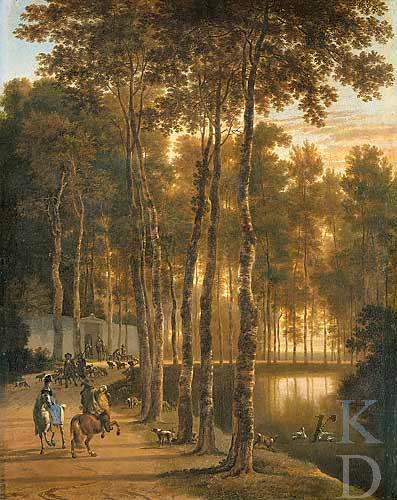dog: (152, 427, 174, 447)
horse: (66, 388, 121, 459), (32, 393, 67, 456)
tree: (15, 1, 391, 450), (2, 73, 397, 367)
